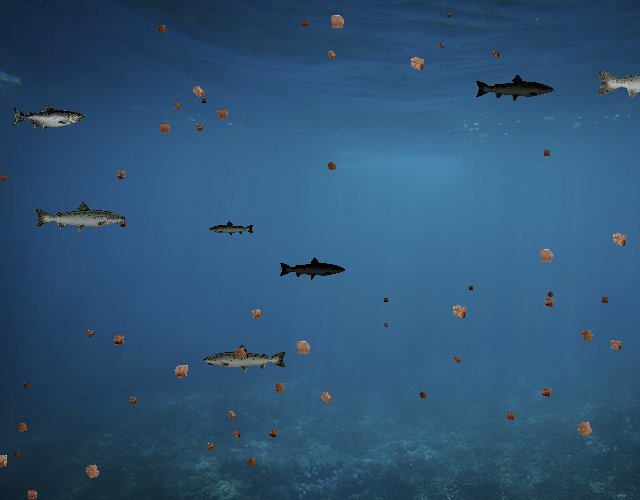Fish: (33, 201, 127, 234), (202, 343, 288, 374), (475, 73, 556, 102), (12, 105, 85, 131), (278, 256, 346, 281), (209, 220, 256, 237)
Pellet: (167, 357, 195, 385), (186, 79, 211, 104), (314, 385, 338, 409), (228, 342, 252, 366), (245, 302, 268, 325), (12, 417, 33, 438), (169, 98, 186, 115), (82, 326, 98, 342), (488, 47, 502, 61), (544, 288, 557, 301), (25, 494, 37, 500)
